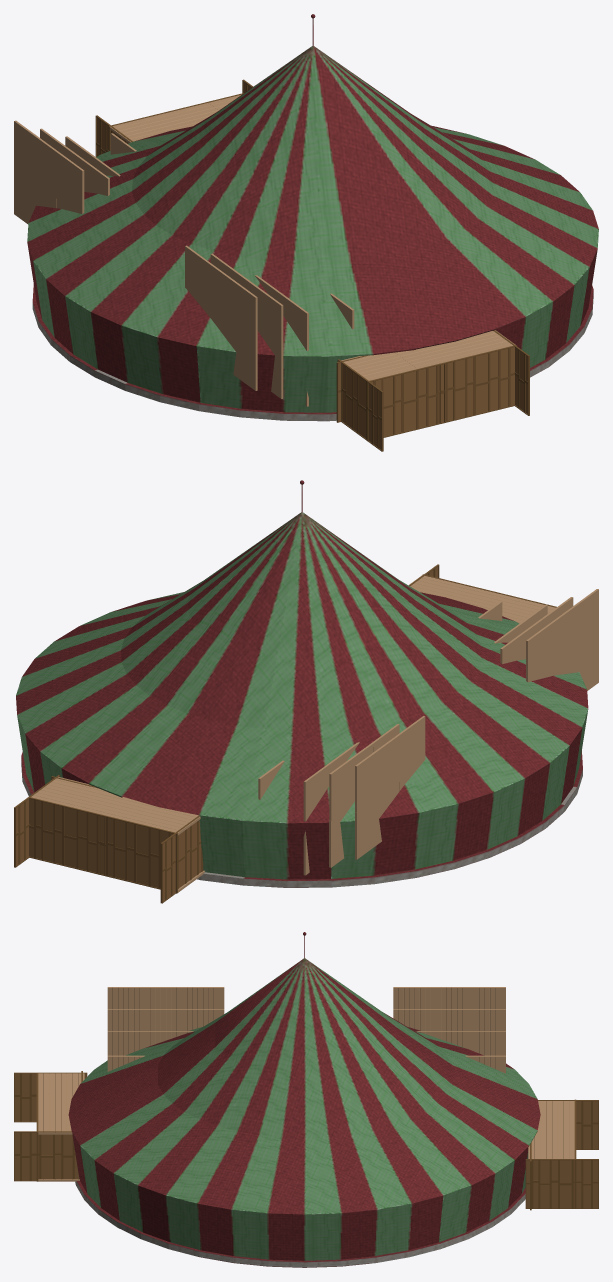
3 views of the same model, one above another, from view 1: azimuth 30°, elevation 25°; view 2: azimuth 150°, elevation 25°; view 3: azimuth 270°, elevation 25° (orthographic). The views are drawn at different scales.
Parts seen in each view (by area): view 1: esenario, paredstatica.003, paredstatica.002, paredstatica.001, paredstatica; view 2: esenario, paredstatica.003, paredstatica.002, paredstatica.001, paredstatica; view 3: esenario, paredstatica.003, paredstatica.002, paredstatica.001, paredstatica.
Boxes of the visible parts, bbox=[...] form: esenario: bbox=[27, 14, 598, 451]; paredstatica.003: bbox=[14, 120, 257, 390]; paredstatica.002: bbox=[40, 128, 283, 398]; paredstatica.001: bbox=[65, 136, 308, 406]; paredstatica: bbox=[110, 133, 354, 329]; esenario: bbox=[14, 480, 588, 903]; paredstatica.003: bbox=[355, 589, 598, 859]; paredstatica.002: bbox=[329, 597, 573, 867]; paredstatica.001: bbox=[303, 604, 547, 875]; paredstatica: bbox=[258, 601, 502, 799]; esenario: bbox=[14, 932, 598, 1267]; paredstatica.003: bbox=[107, 987, 505, 1009]; paredstatica.002: bbox=[107, 1009, 505, 1030]; paredstatica.001: bbox=[107, 1031, 505, 1055]; paredstatica: bbox=[107, 1055, 505, 1073].
Bounding box in the file's own units: 29.97 × 17.99 × 37.14.
Materials: 11 (1 with a texture image).
